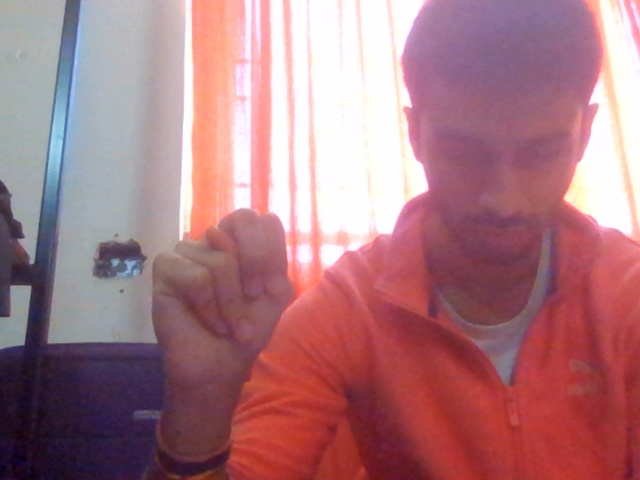N: (109, 183, 331, 452)
